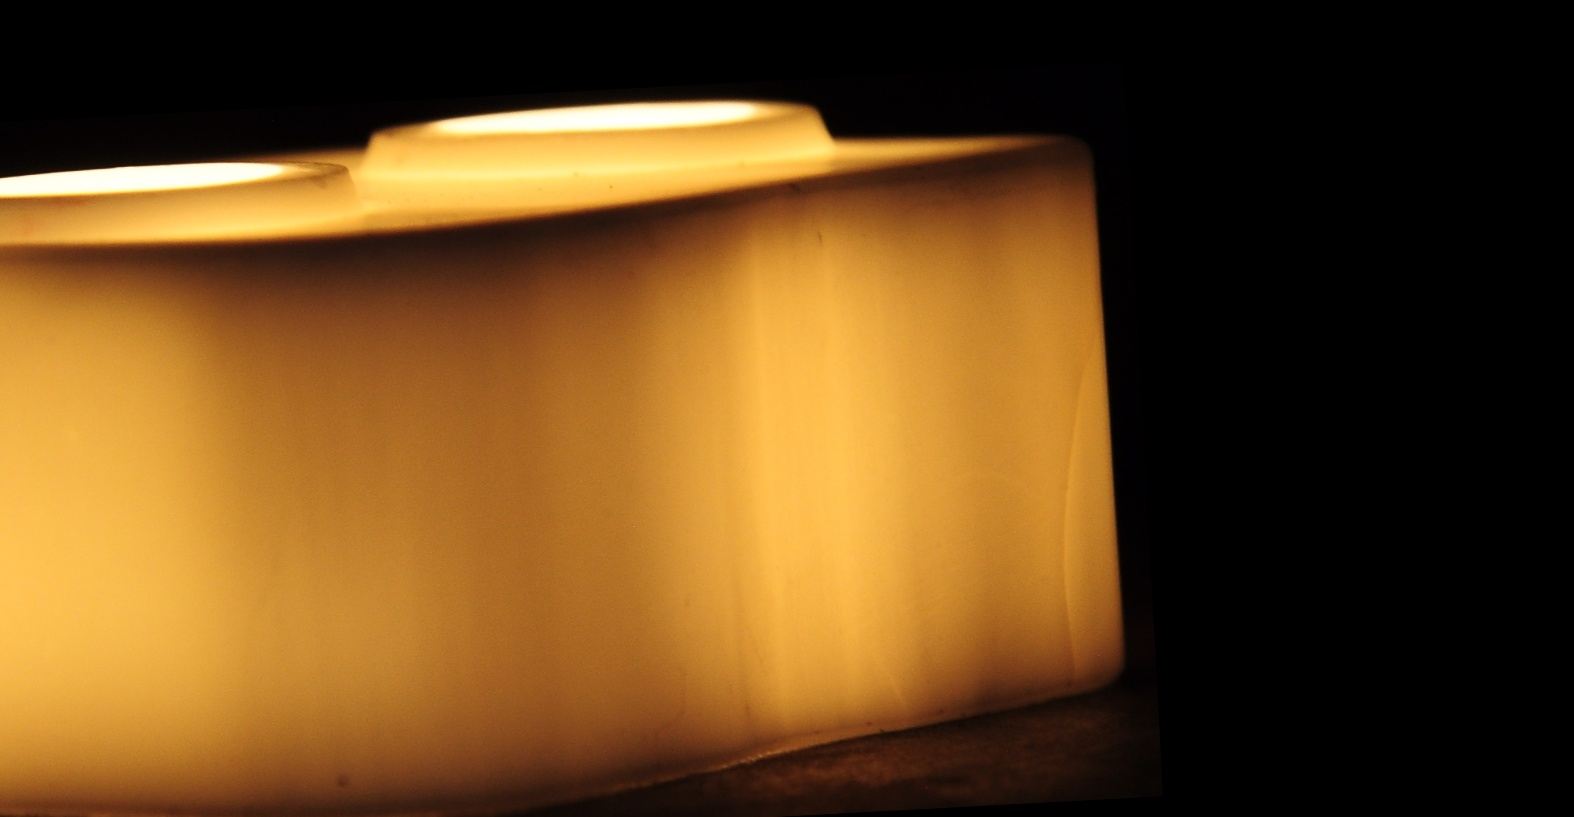flaw: (1048, 300, 1107, 686)
